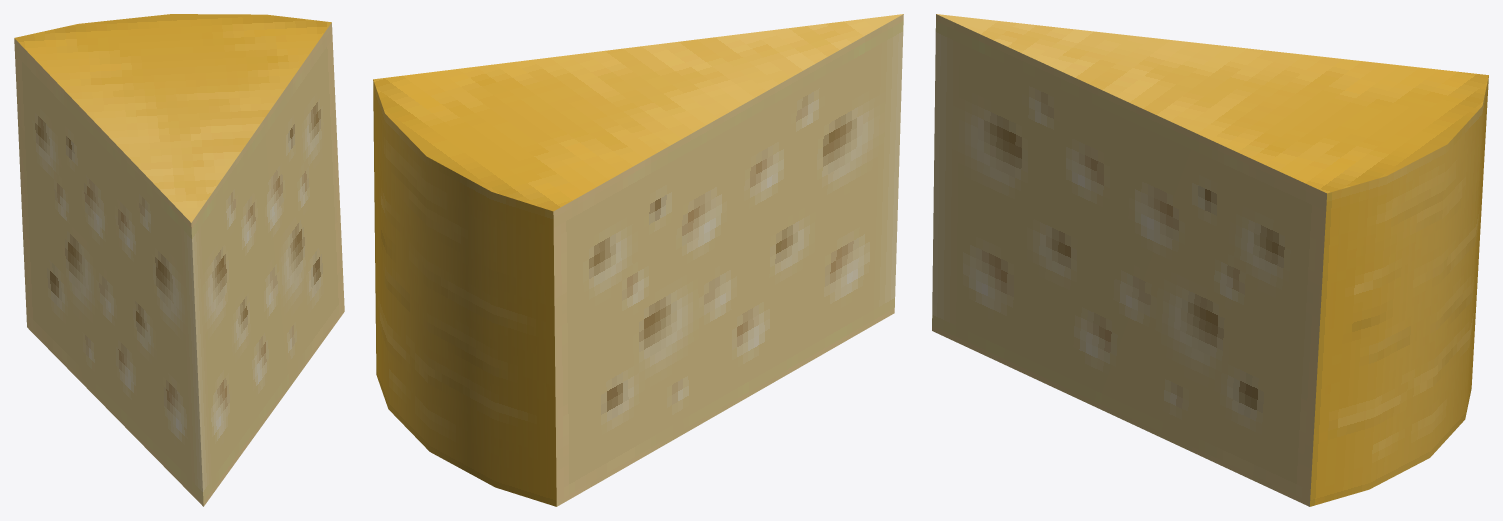
File: H_ParmesanCheese.fbx
3 views of the same model, side by side, from view 1: azimuth 30°, elevation 25°; view 2: azimuth 150°, elevation 25°; view 3: azimuth 270°, elevation 25° (orthographic). The views are drawn at different scales.
Parts seen in each view (by area): view 1: Cheese001; view 2: Cheese001; view 3: Cheese001.
Boxes of the visible parts, bbox=[...] form: Cheese001: bbox=[14, 14, 344, 506]; Cheese001: bbox=[373, 14, 903, 506]; Cheese001: bbox=[932, 14, 1488, 506].
Bounding box in the file's own units: 12.88 × 11.51 × 17.53.
